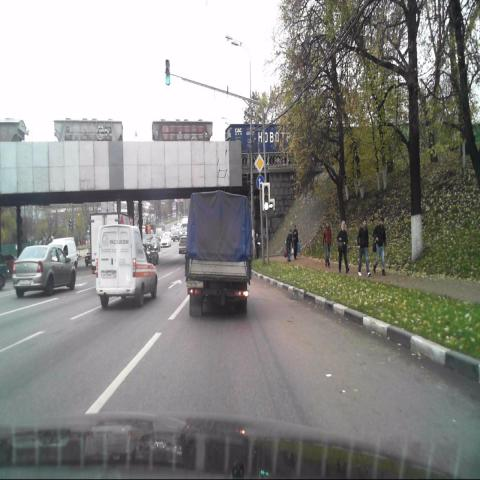2_1: (253, 153, 266, 172)
4_1_4: (255, 175, 265, 190)
